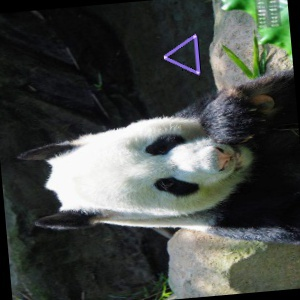triangle: (162, 31, 203, 79)
